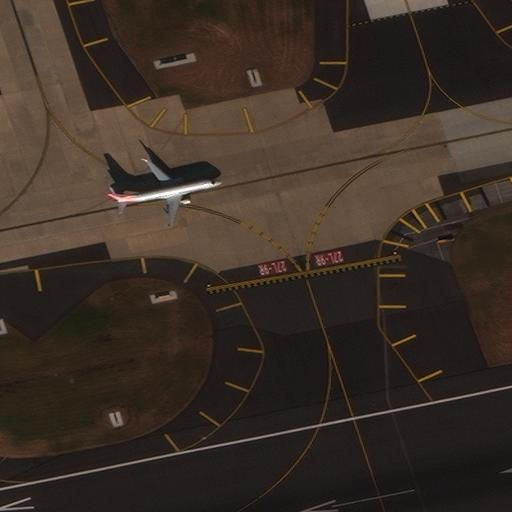Medium Civil Transport: (106, 159, 222, 226)
